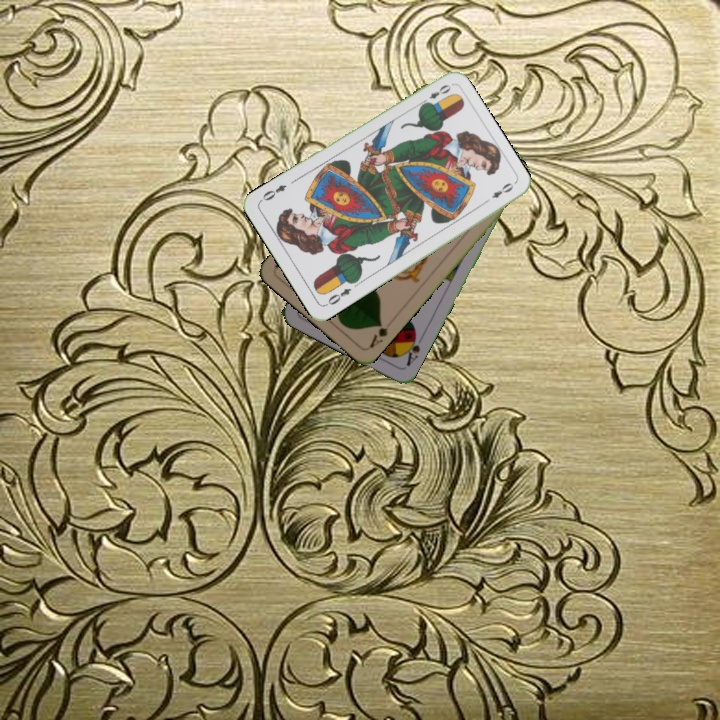EO: (417, 80, 454, 108), (321, 284, 354, 309)
GA: (365, 318, 390, 351)
SA: (399, 329, 423, 369)
